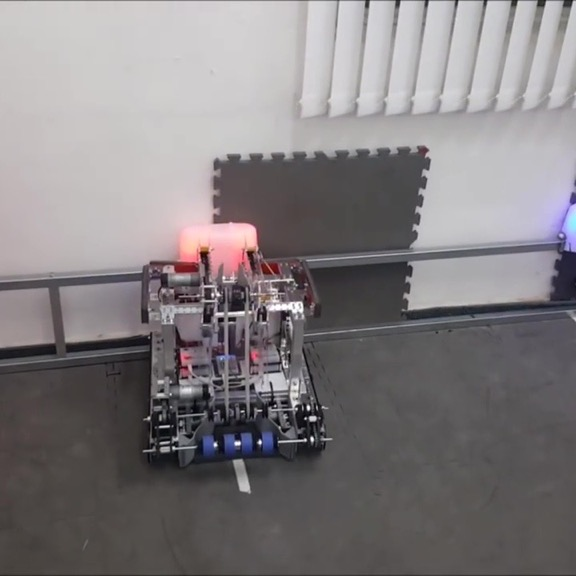robot: (136, 239, 336, 475)
